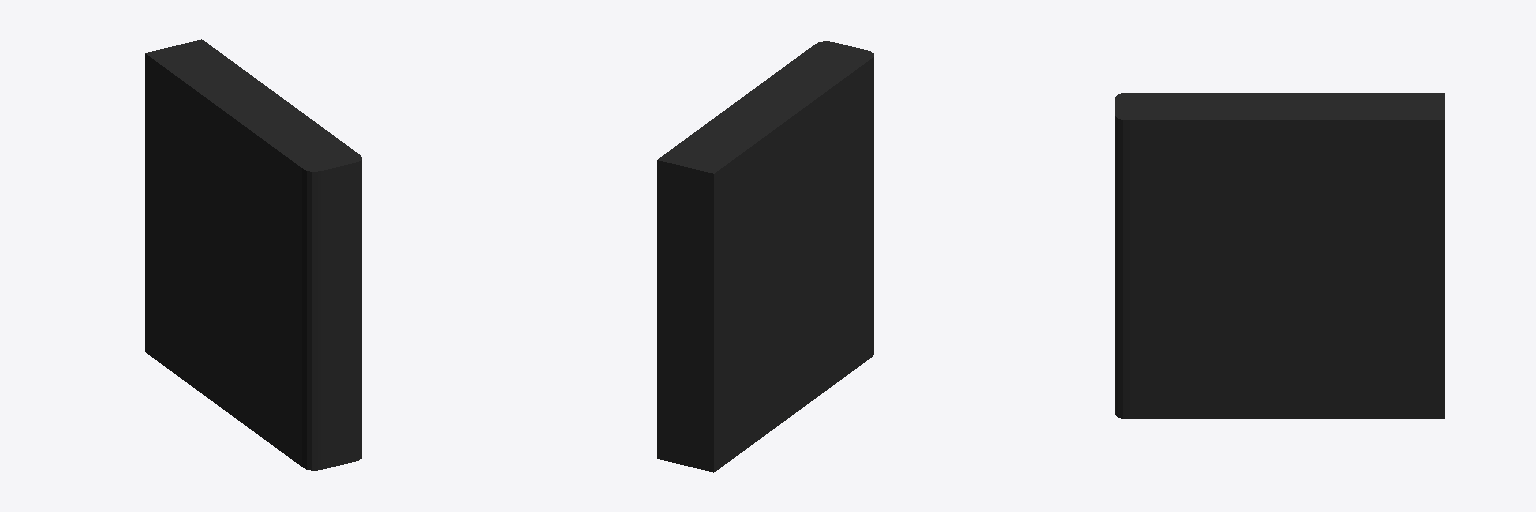
File: fence.obj
The picture shows the model from 3 angles: view 1: azimuth 30°, elevation 25°; view 2: azimuth 150°, elevation 25°; view 3: azimuth 270°, elevation 25°; orthographic projection.
Visible parts, largest first — view 1: Cube; view 2: Cube; view 3: Cube.
Part boxes in pixels (x1,y1,x2,y2): Cube: (145,39,361,470); Cube: (657,41,873,472); Cube: (1115,93,1444,418).
Size of the model in its own units: 0.4 by 2 by 2.